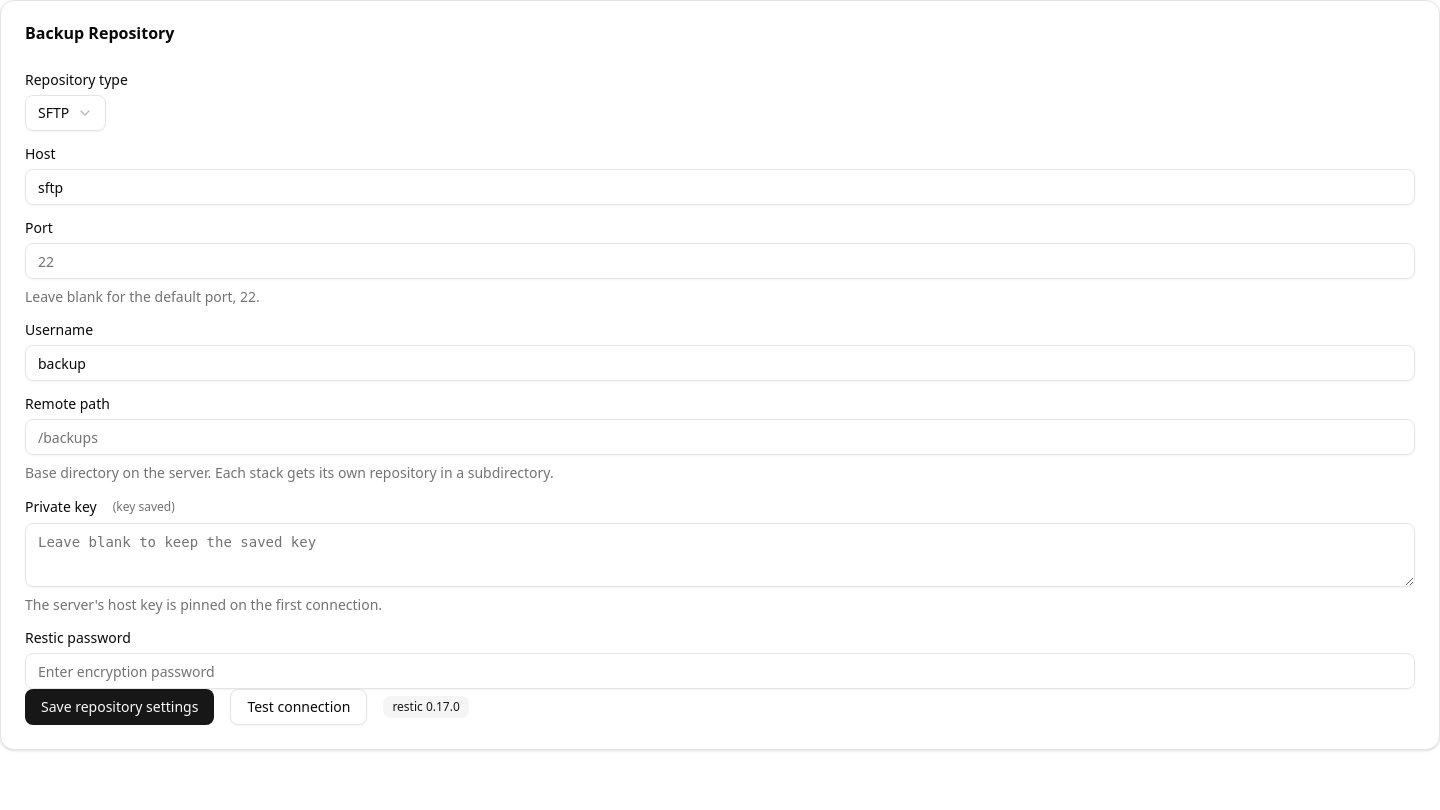
Test: BackupRepositoryCard › test connection › shows the success message after testing the saved repository
Click the button "Test connection": point(299, 707) [230,689,367,725]
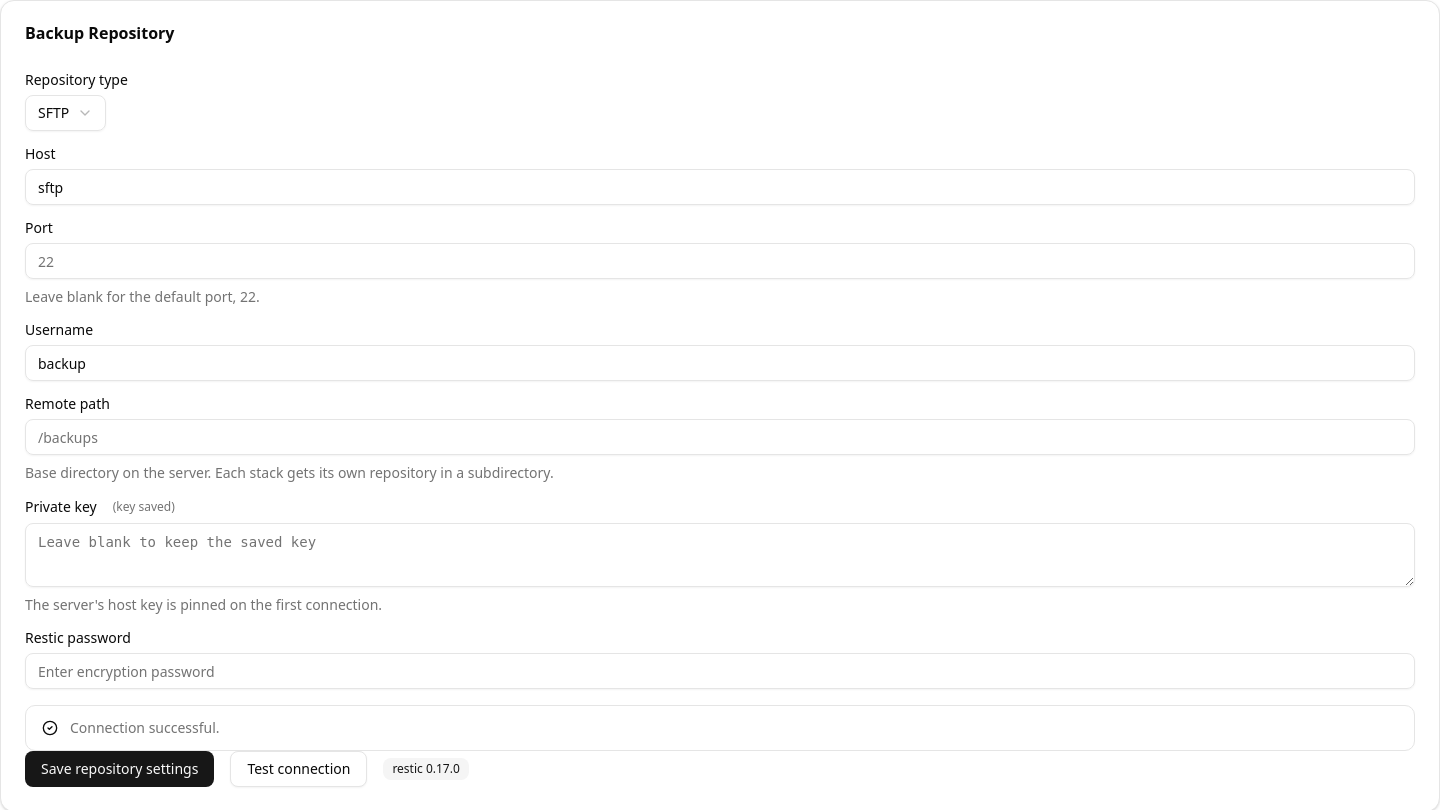
Expected: the text "Connection successful." is shown, [70,718,220,737]
